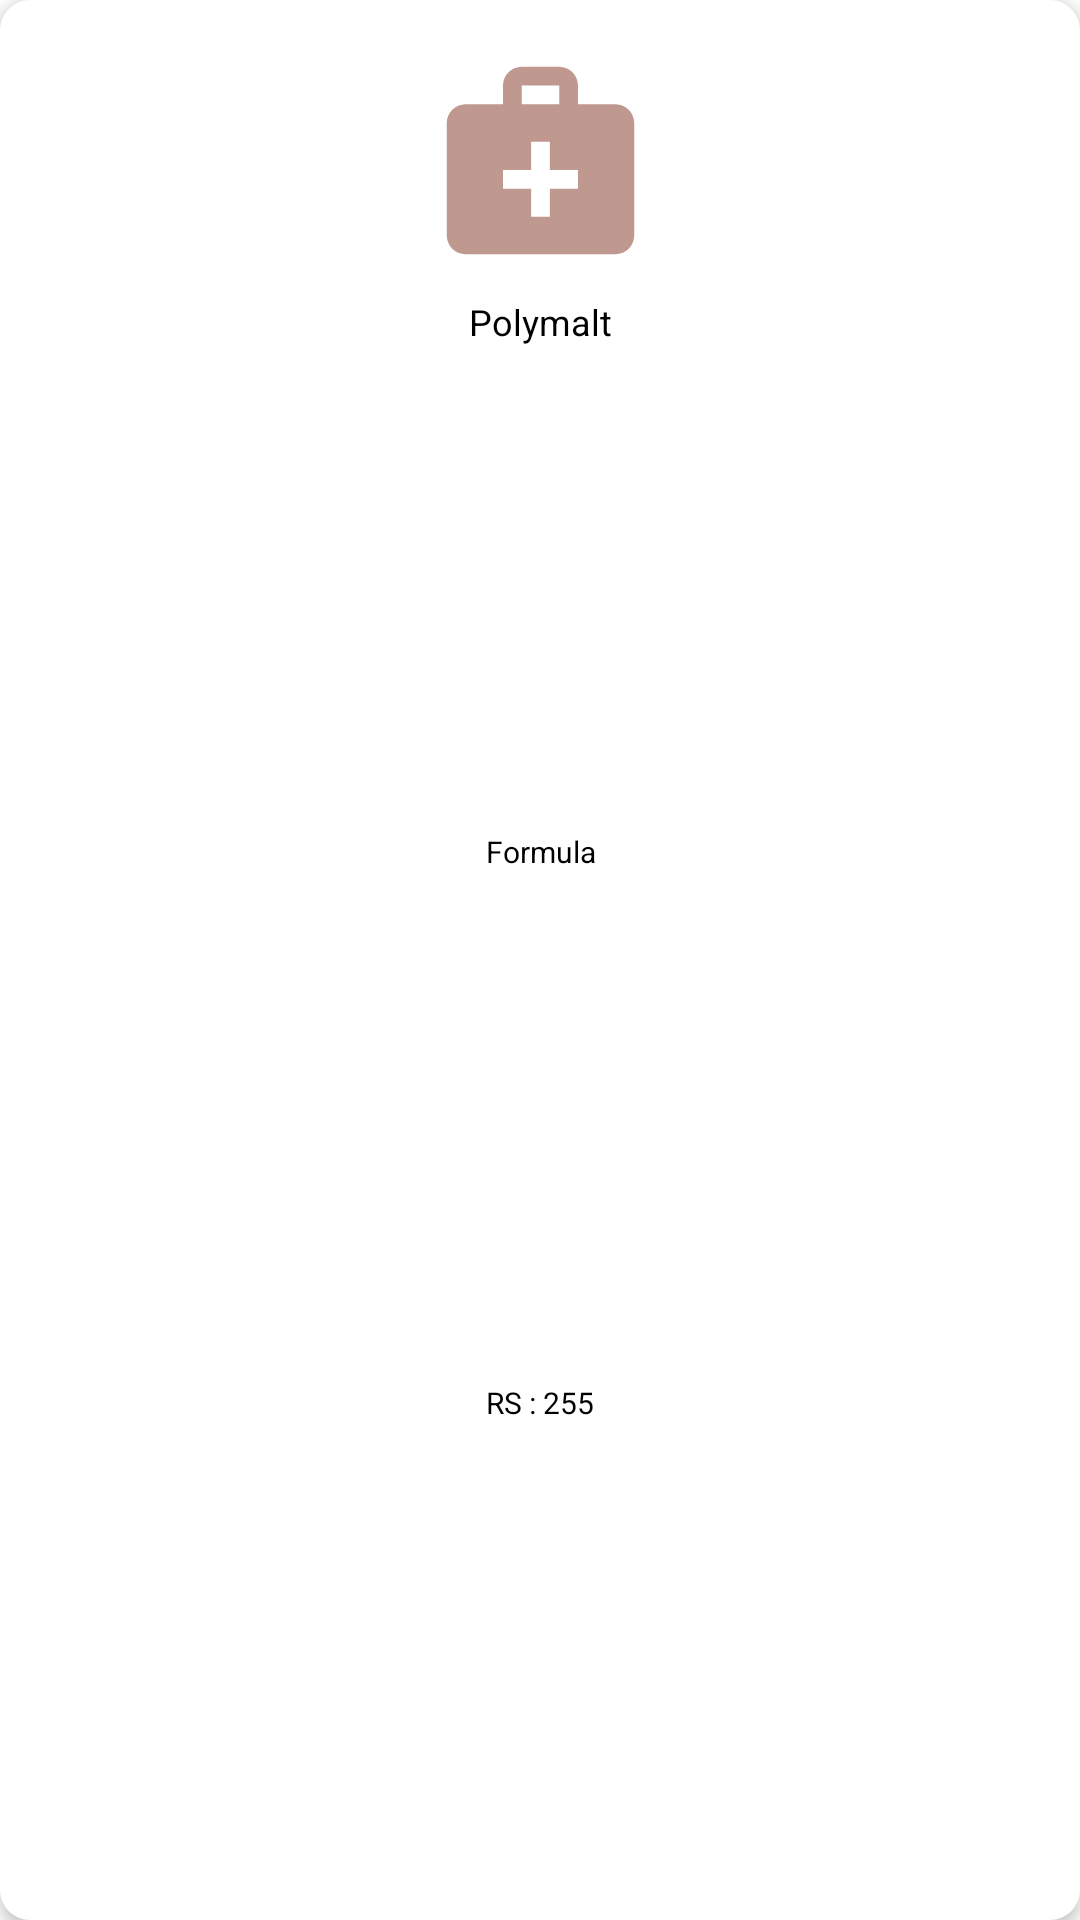

Icons on this 1080×1920 Android screen, each with its box as (x1, y1, x2, y2):
medical services: (446, 66, 635, 255)
